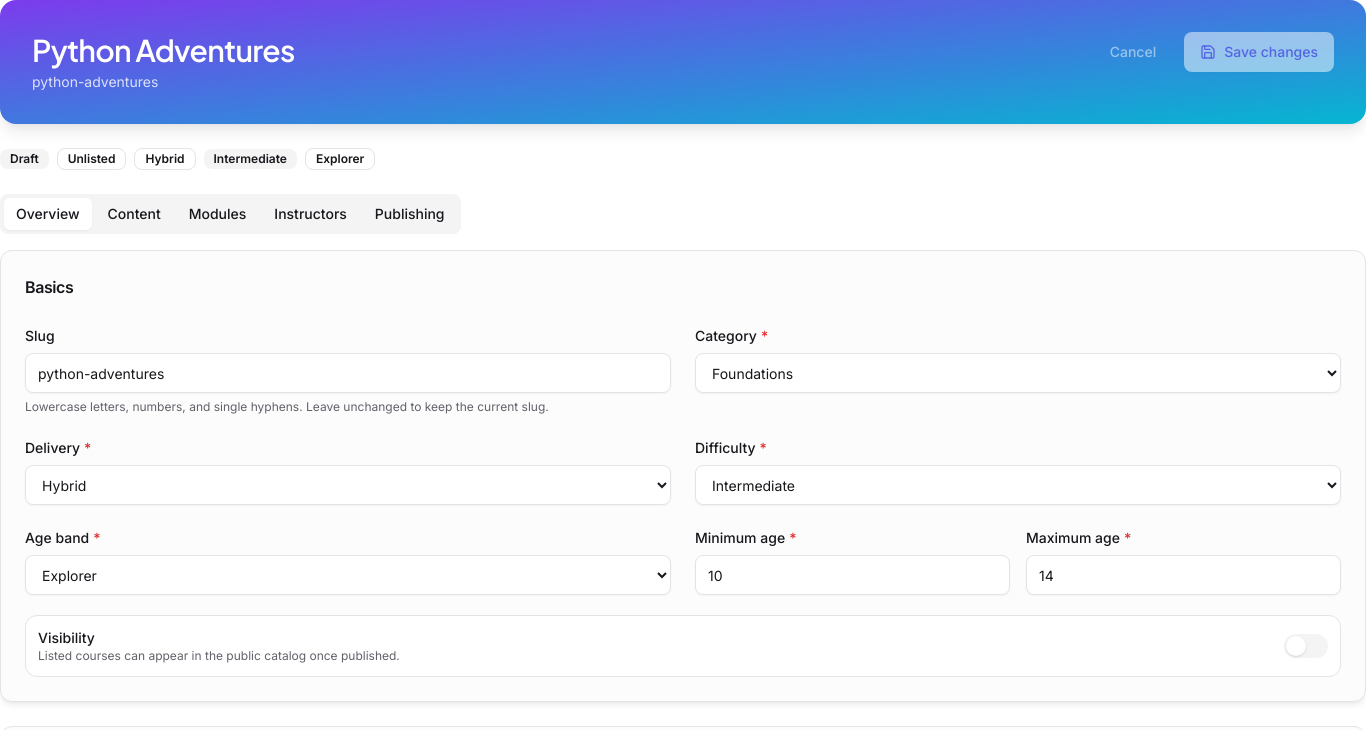
Scenario: CourseEditor › shows the concurrency alert on a 409 conflict
This screenshot has width=1366, height=730.
Replace the text in the field labelled "Slug" with "changed" at point(348, 373), box x1=25 y1=353 x2=671 y2=393
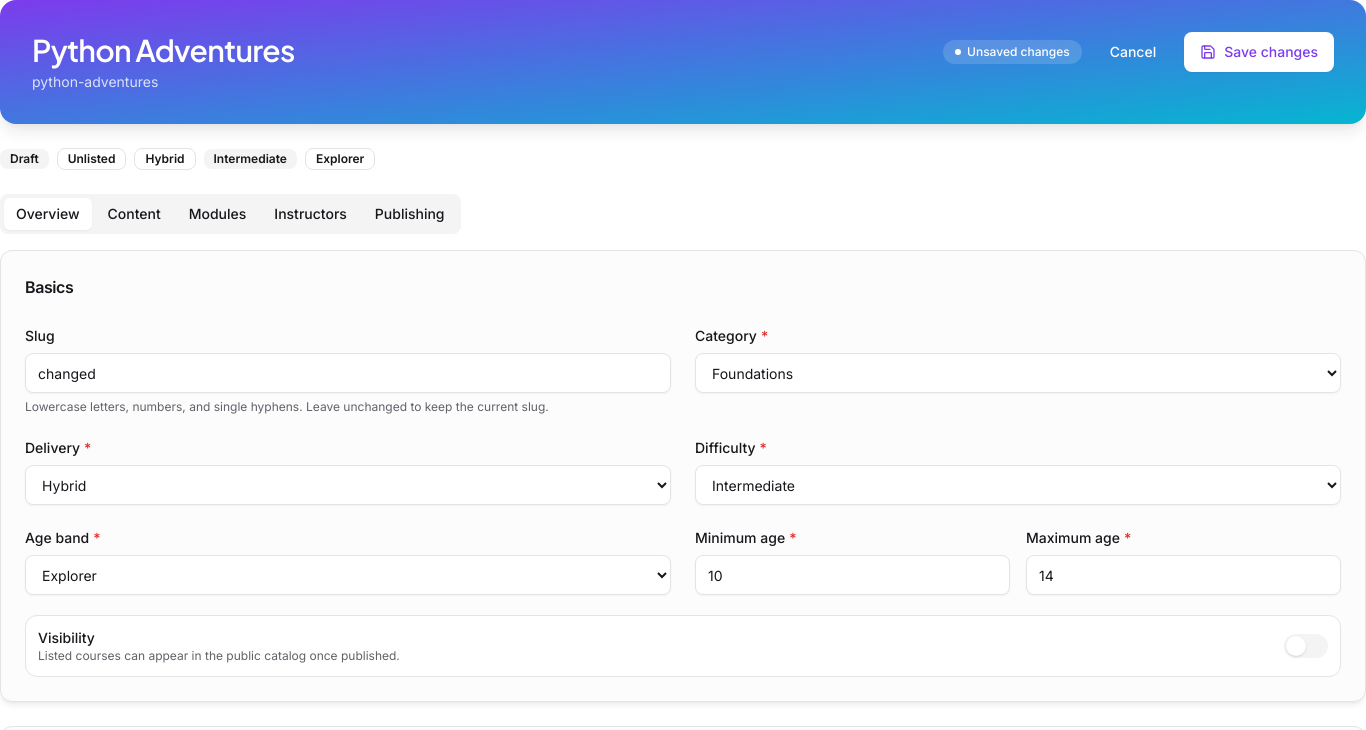
Click the button "Save changes" at point(1259, 52), box x1=1184 y1=32 x2=1334 y2=72
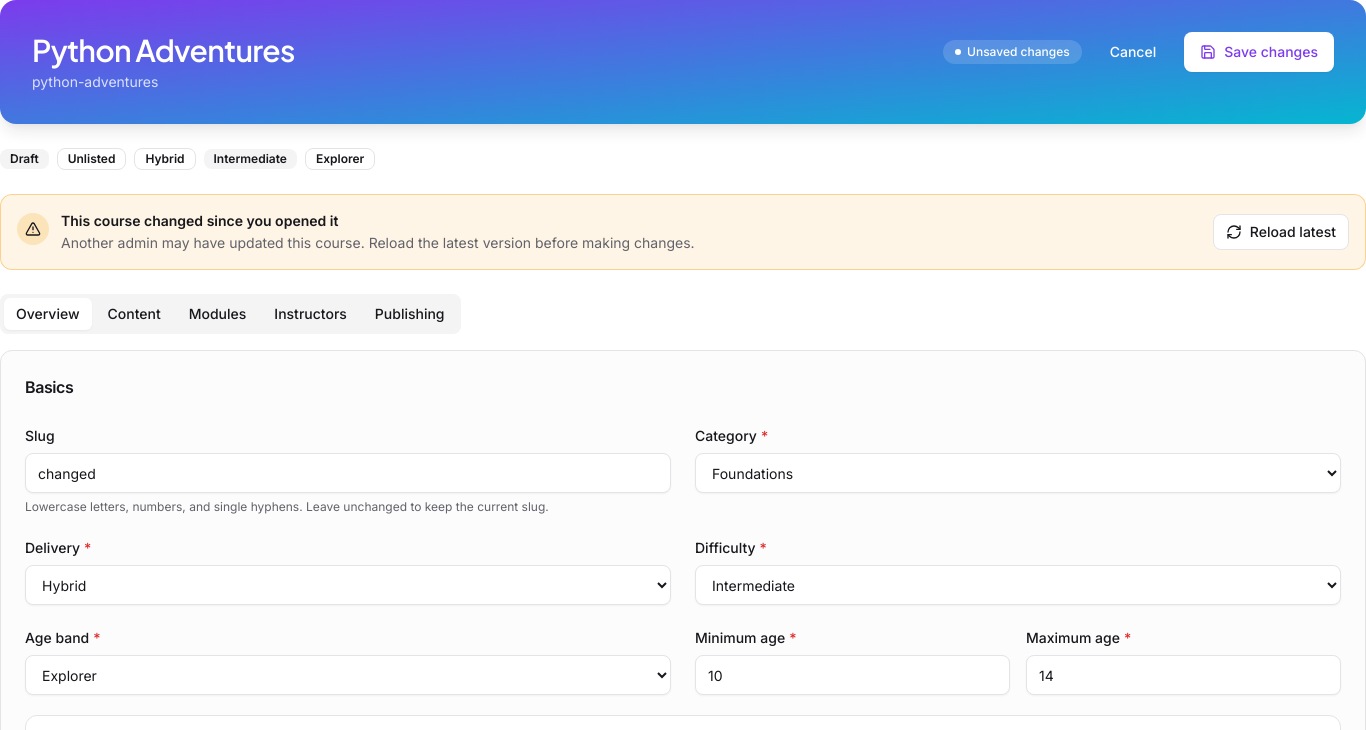
Expected: the text "This course changed since you opened it" is shown, x1=61 y1=212 x2=338 y2=229
